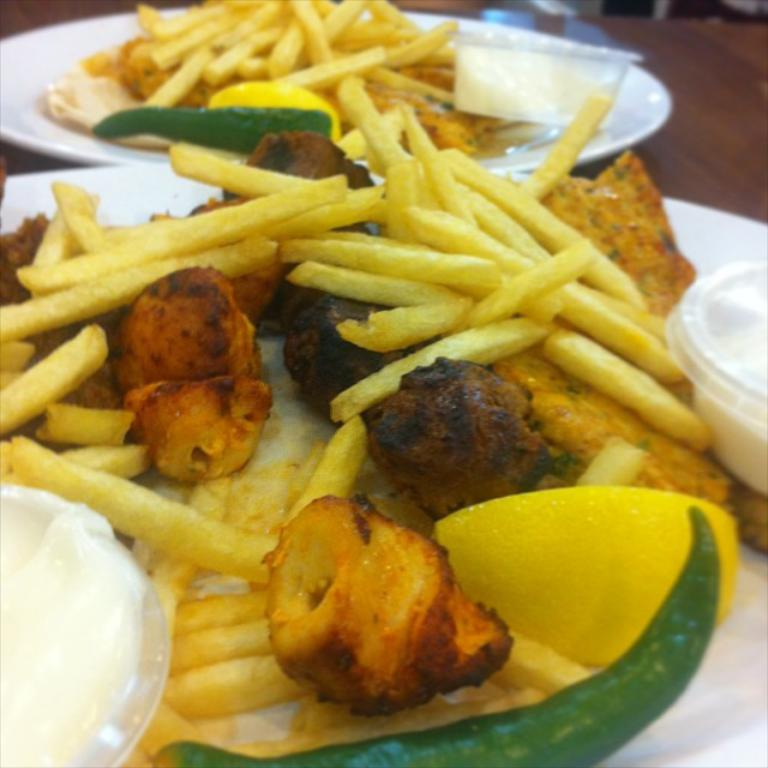French fries: (0, 0, 717, 766), (0, 0, 714, 766)
